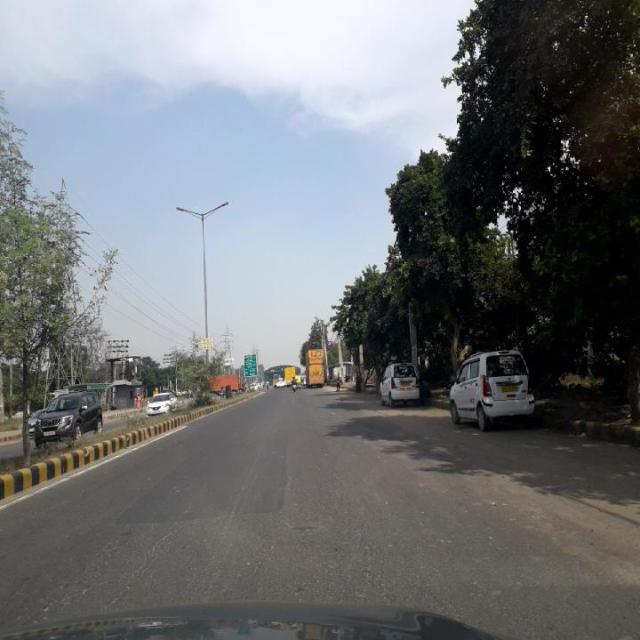pothole: (40, 524, 180, 604), (323, 488, 397, 598)
